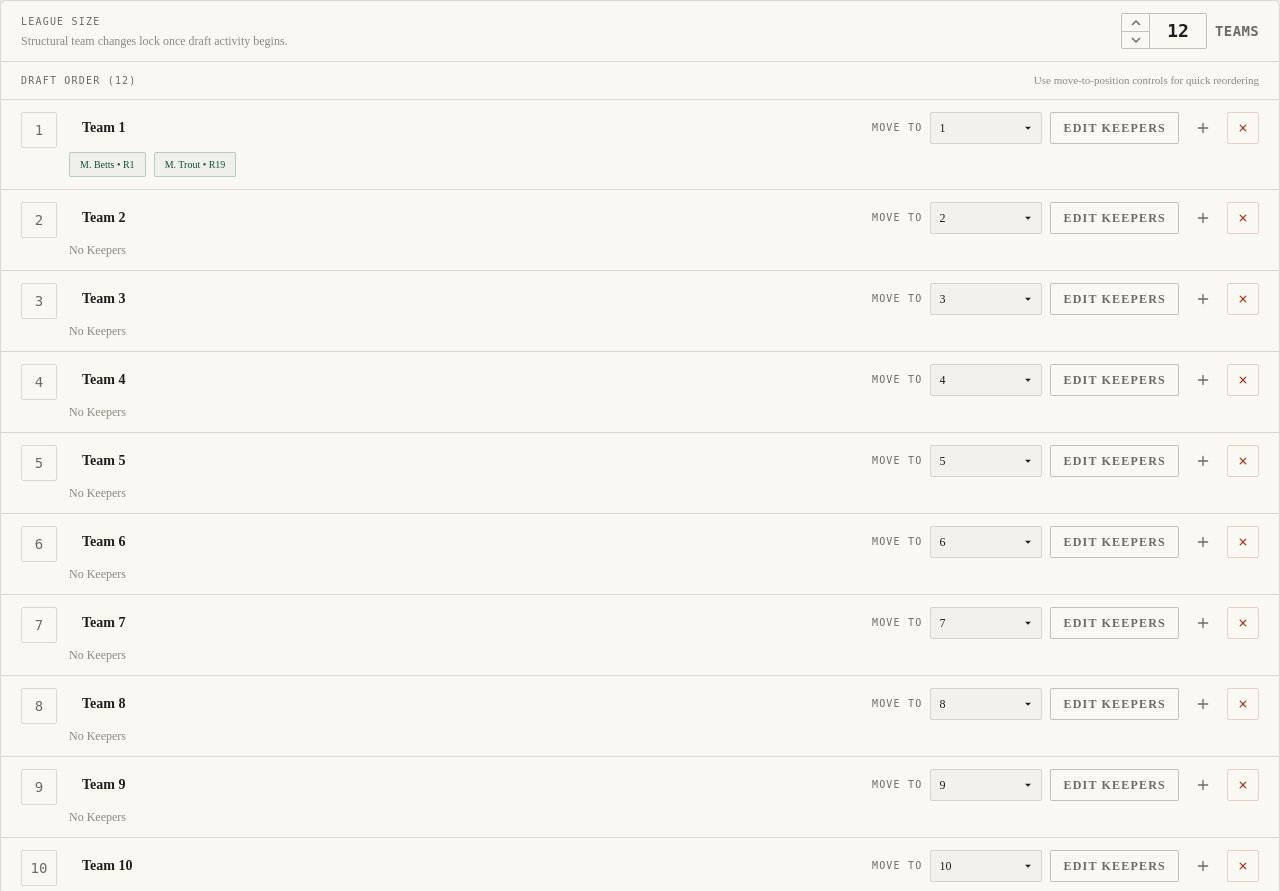
it: settings sections › Given a keeper is already at round 1 or the final roster round, when the Draft section renders, then the blocked arrow is disabled
The image size is (1280, 891).
Click the button with aria-label "Show keepers for Team 1": (1115, 128) [1050,112,1179,144]
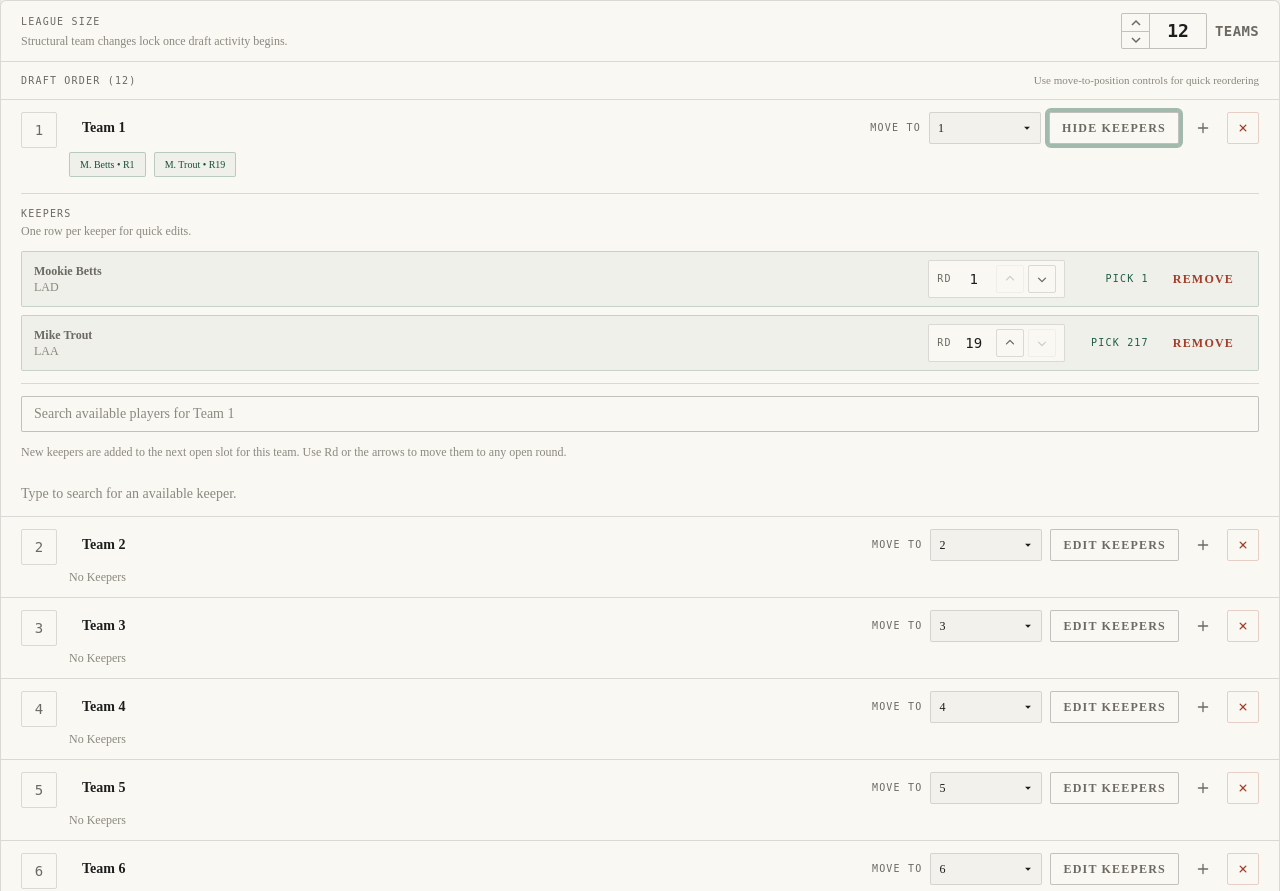
expect the button named "Move keeper Mookie Betts earlier" is disabled: met, box [996,264,1024,292]
expect the button named "Move keeper Mike Trout later" is disabled: met, box [1028,328,1056,356]
